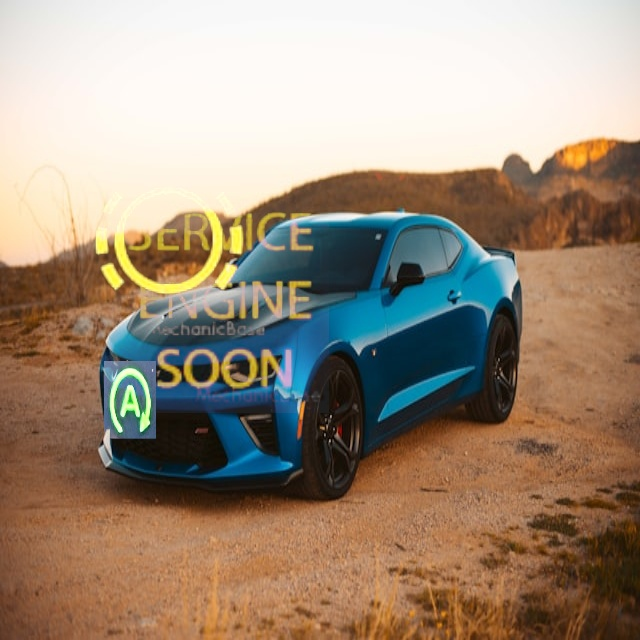symbol: (109, 193, 329, 413), (64, 137, 273, 346), (317, 33, 492, 208), (62, 332, 194, 464)
